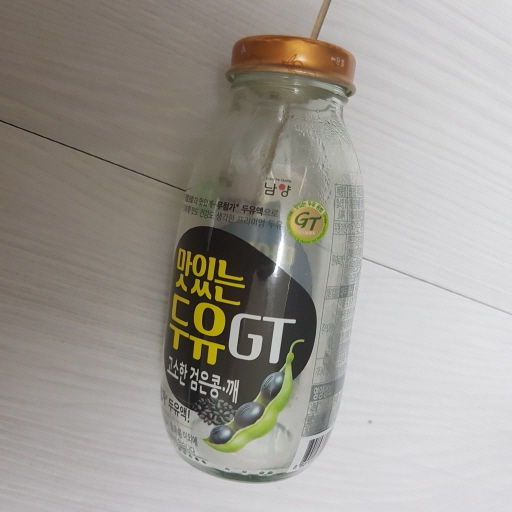Glass_4: (156, 36, 367, 480)
